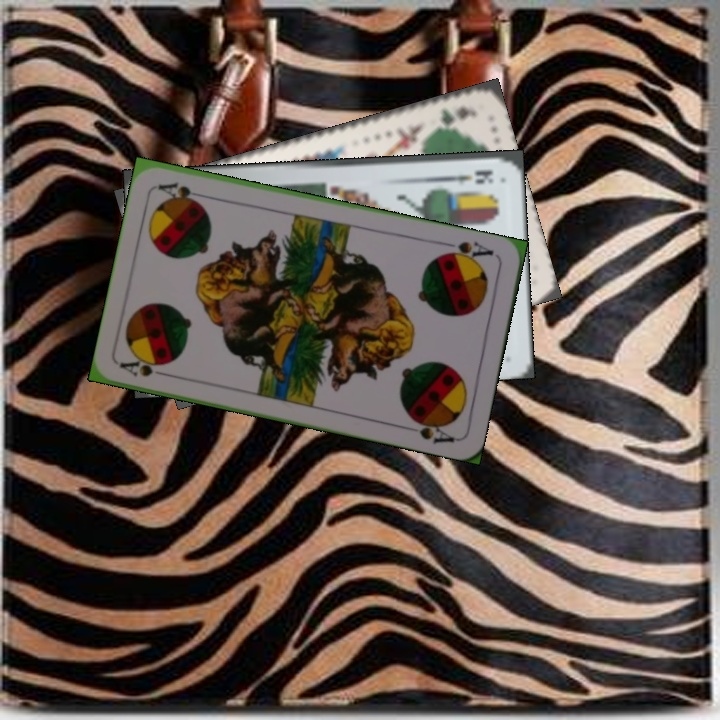EK: (439, 166, 496, 186)
GK: (427, 102, 480, 133)
SA: (437, 237, 497, 266), (116, 354, 175, 380)
